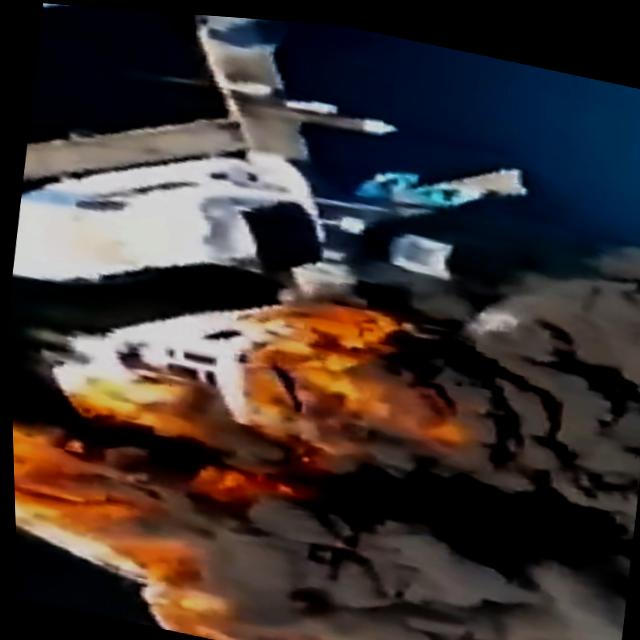fire: (269, 276, 442, 443), (9, 405, 153, 541)
smoke: (168, 432, 635, 640), (418, 168, 640, 512)
